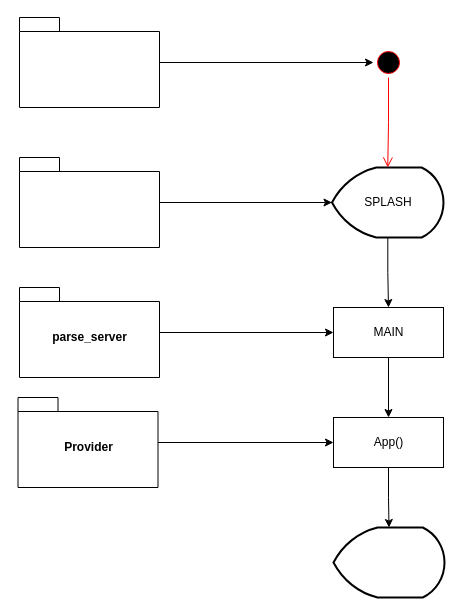
Some shapes in this 462 by 616 pixel diagram are drawn without their labels. Each missing label, with the centre of its shape:
"flutter_icon_launcher" belongs at (x=89, y=62).
"flutter_native_splash" belongs at (x=89, y=202).
"LoginPage" belongs at (x=388, y=562).
